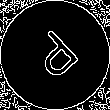P_SE: (24, 24, 86, 86)
